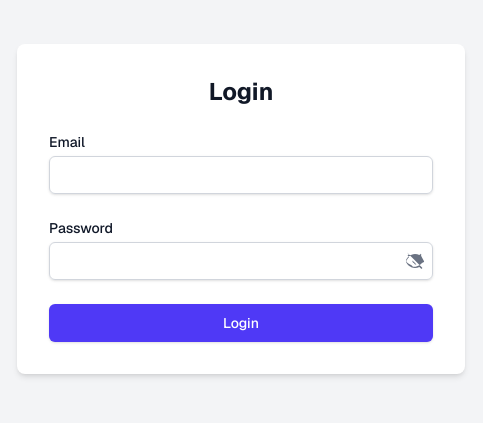
LoginPage › should show error if email is empty
This screenshot has width=483, height=423.
Step 1. Type "password123" into the password field labelled "Password" → (241, 261), box [49, 242, 433, 280]
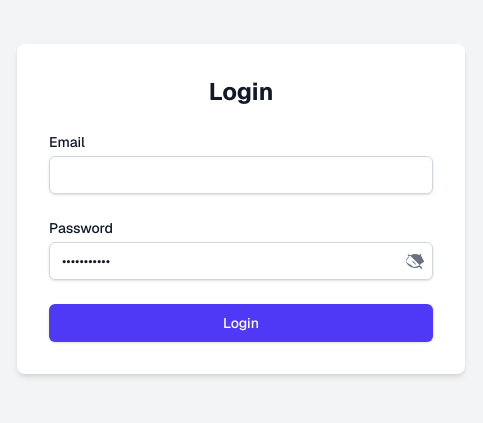
Step 2. Type "pass" into the password field labelled "Password" → (241, 261), box [49, 242, 433, 280]
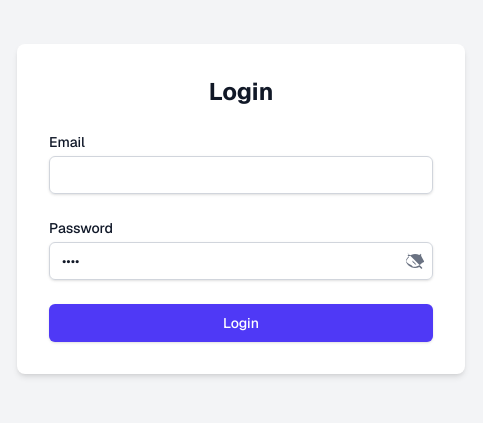
Step 3. Click the button "Login" → (241, 323), box [49, 304, 433, 342]
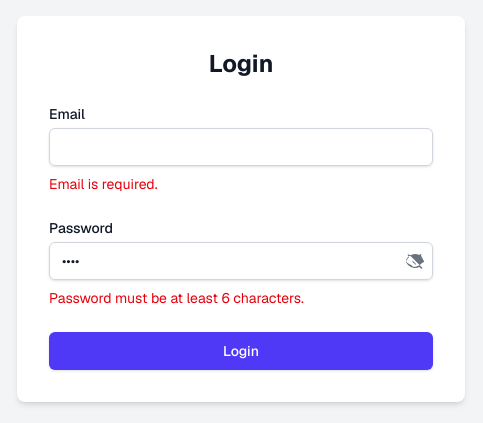
Now the text "Email is required." is shown, box [49, 175, 158, 193]
